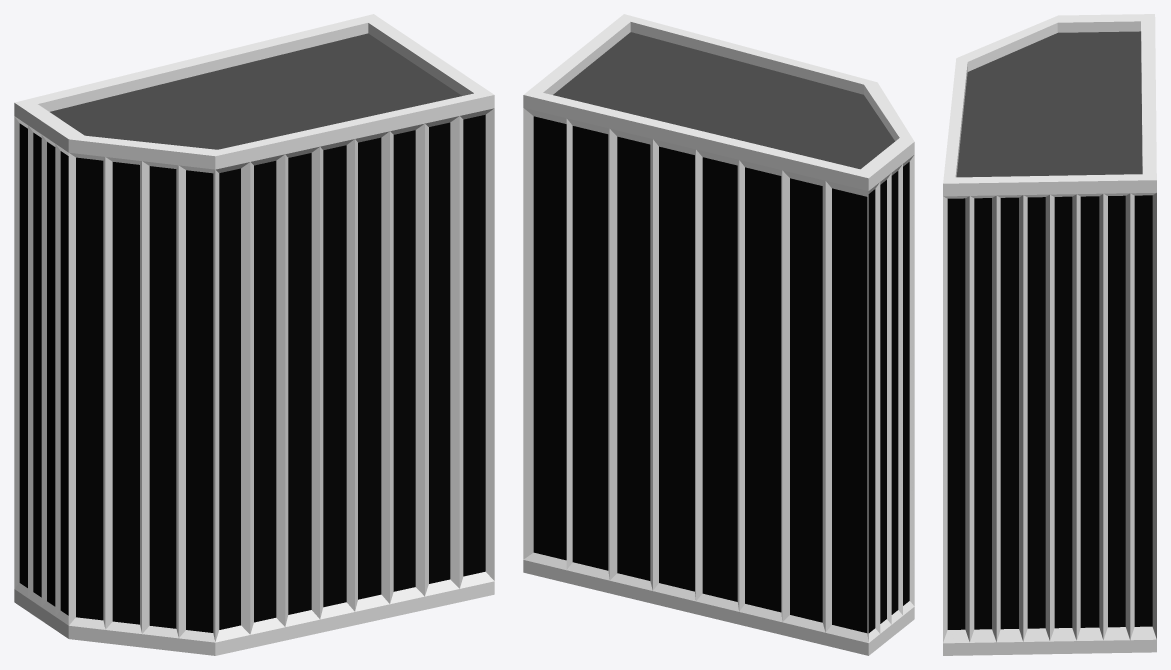
Rendered from Skyscraper_06.fbx.
3 renders of one model, left to right at view 1: azimuth 30°, elevation 25°; view 2: azimuth 150°, elevation 25°; view 3: azimuth 270°, elevation 25°, orthographic. The views are drawn at different scales.
Parts seen in each view (by area): view 1: Building_21; view 2: Building_21; view 3: Building_21.
Part boxes in pixels (x1,y1,x2,y2): Building_21: (14,14,494,655); Building_21: (523,14,914,655); Building_21: (943,14,1156,655).
Size of the model in its own units: 6289 by 8158 by 3348.
